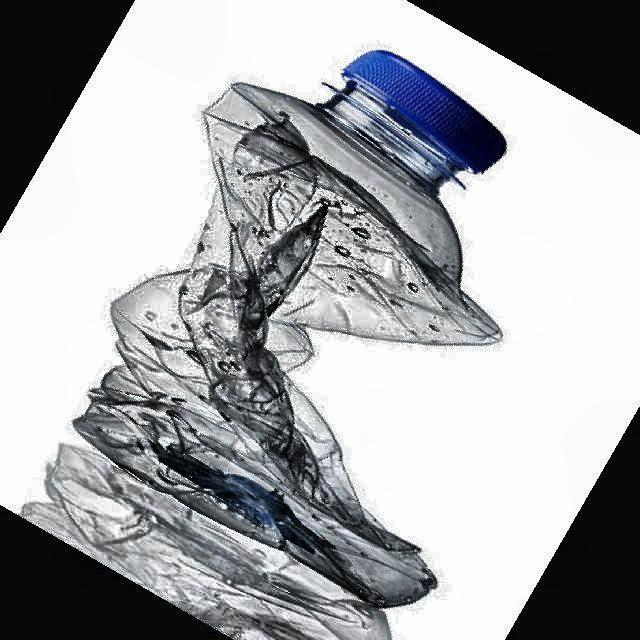plastic: (75, 51, 506, 607)
